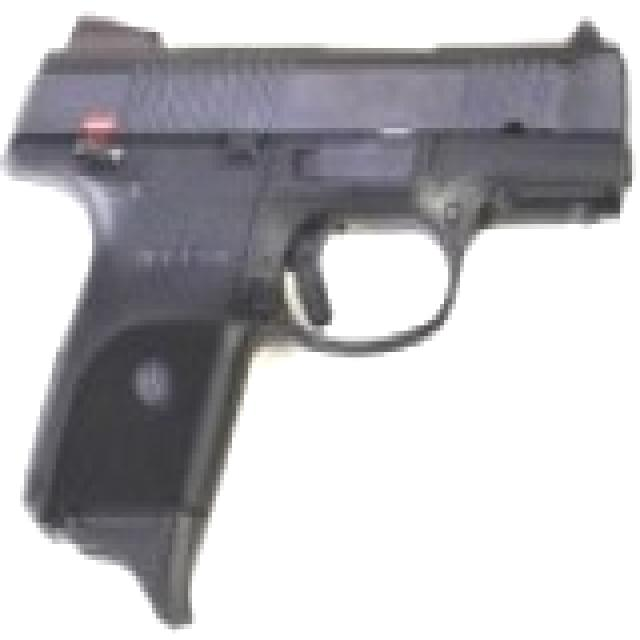pistol: (24, 16, 640, 608)
